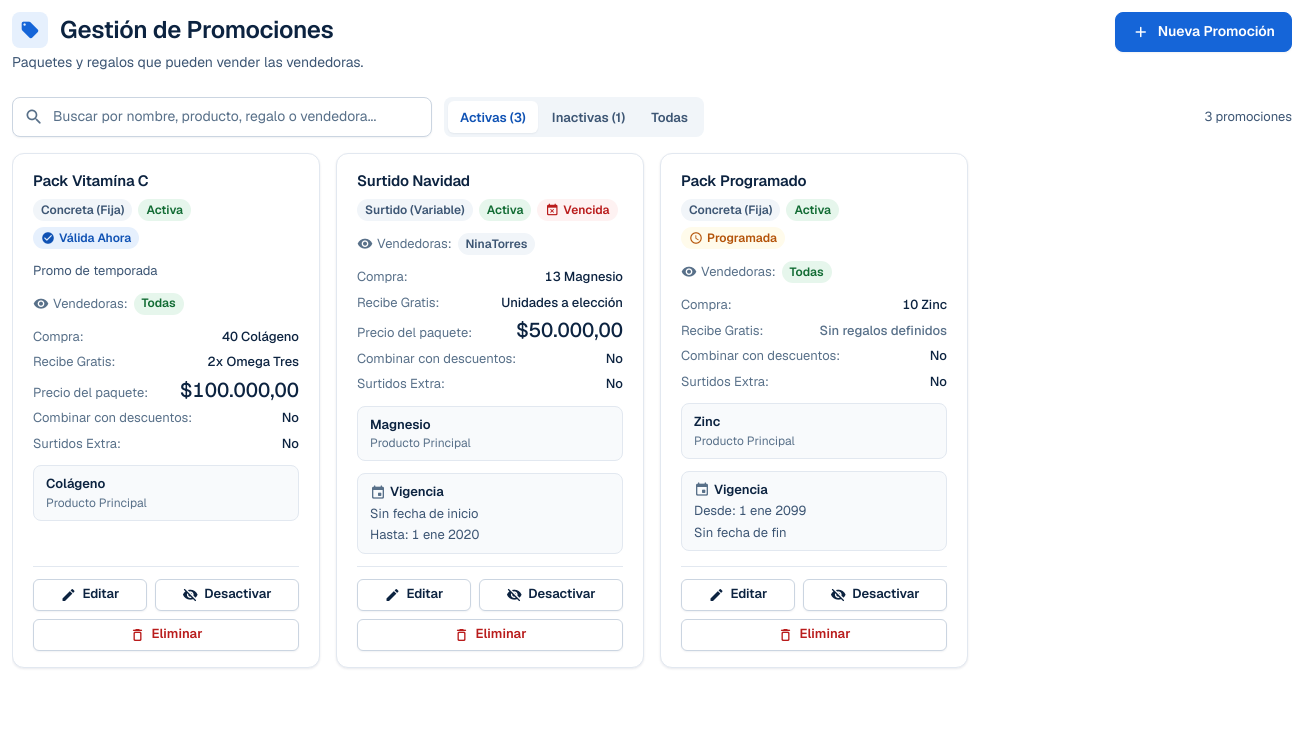
Test: busca sin mayúsculas ni tildes por nombre, producto, regalo y vendedora
Check: the heading "Pack Vitamína C" is shown, box x1=33 y1=171 x2=149 y2=190
In the field with placeholder "Buscar por nombre, producto, regalo o vendedora...": (222, 117) x1=12 y1=97 x2=432 y2=137, type "VITAMINA"
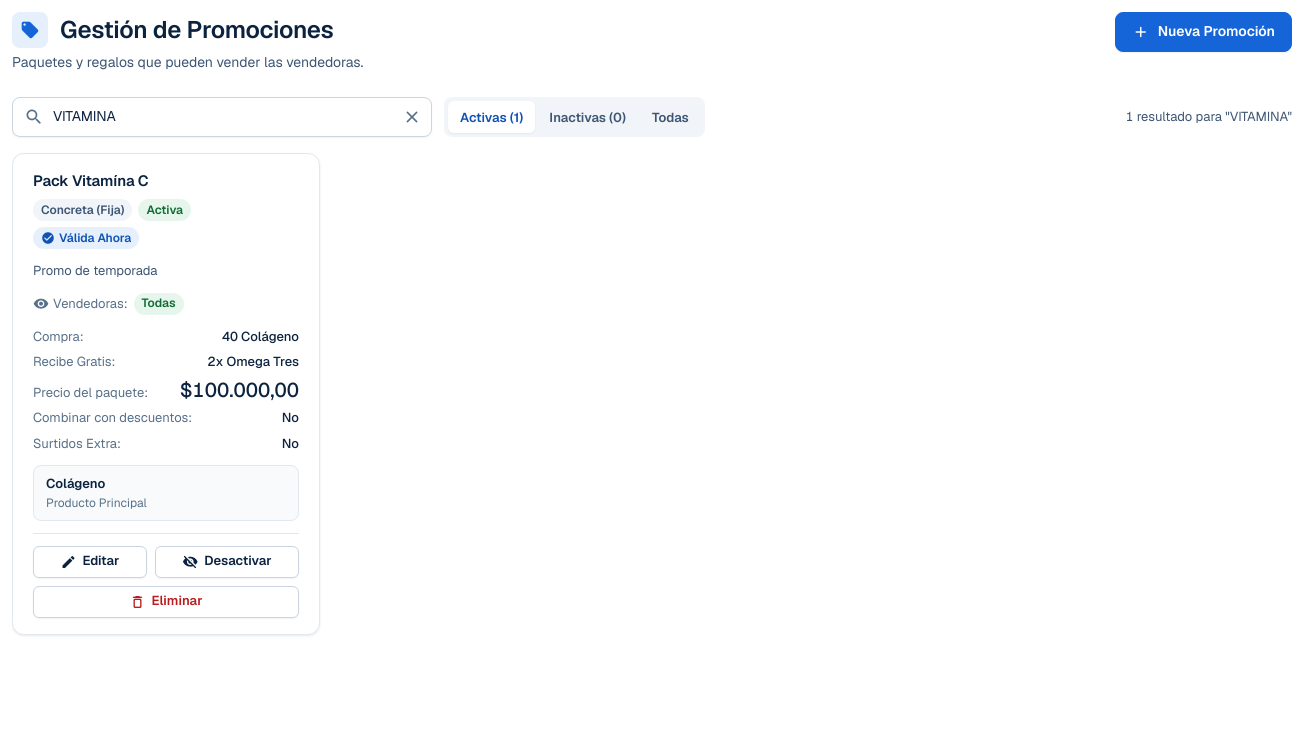
Check: the heading "Surtido Navidad" is gone
Check: the text "1 resultado para \"VITAMINA\"" is shown, box x1=1126 y1=107 x2=1292 y2=127
Check: the tab "Activas (1)" is shown, box x1=448 y1=101 x2=535 y2=133
Replace the text in the field with placeholder "Buscar por nombre, producto, regalo o vendedora..." with "colageno": (222, 117) x1=12 y1=97 x2=432 y2=137
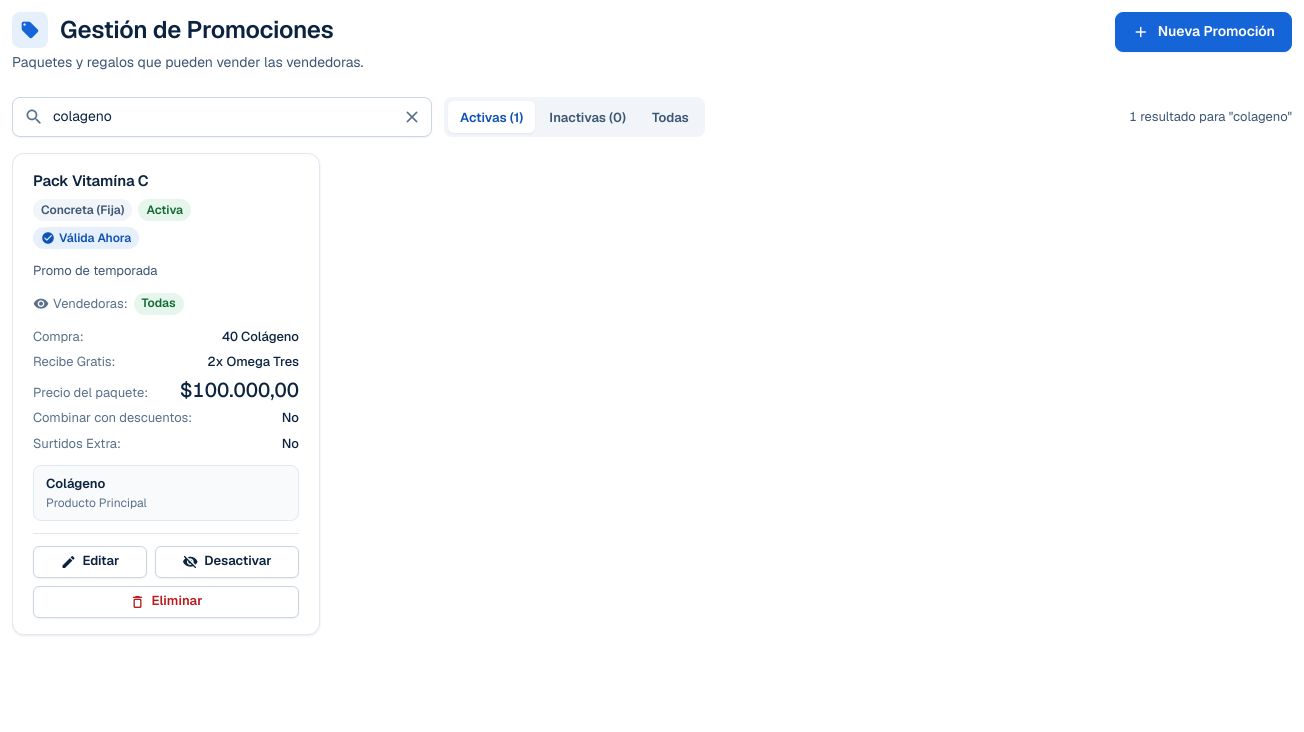
Check: the heading "Pack Vitamína C" is shown, box x1=33 y1=171 x2=149 y2=190
Replace the text in the field with placeholder "Buscar por nombre, producto, regalo o vendedora..." with "omega": (222, 117) x1=12 y1=97 x2=432 y2=137
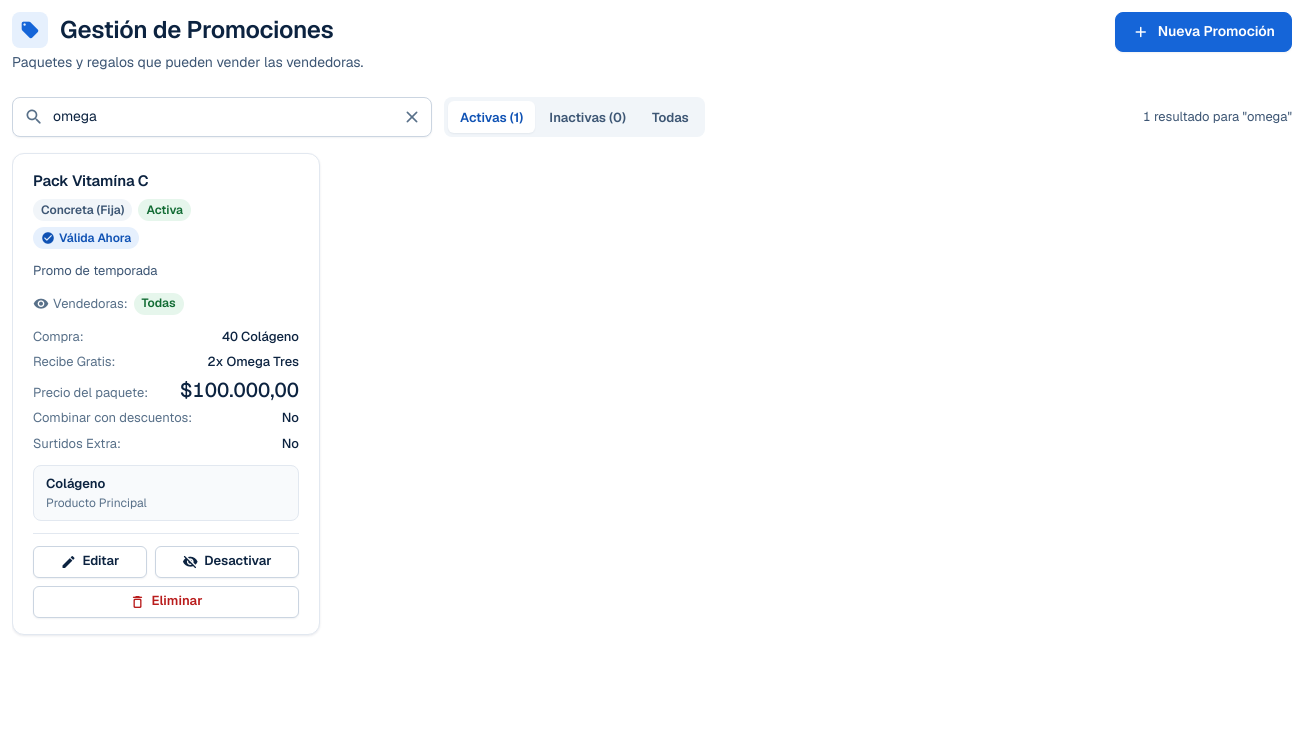
Check: the heading "Pack Vitamína C" is shown, box x1=33 y1=171 x2=149 y2=190
Replace the text in the field with placeholder "Buscar por nombre, producto, regalo o vendedora..." with "nina": (222, 117) x1=12 y1=97 x2=432 y2=137
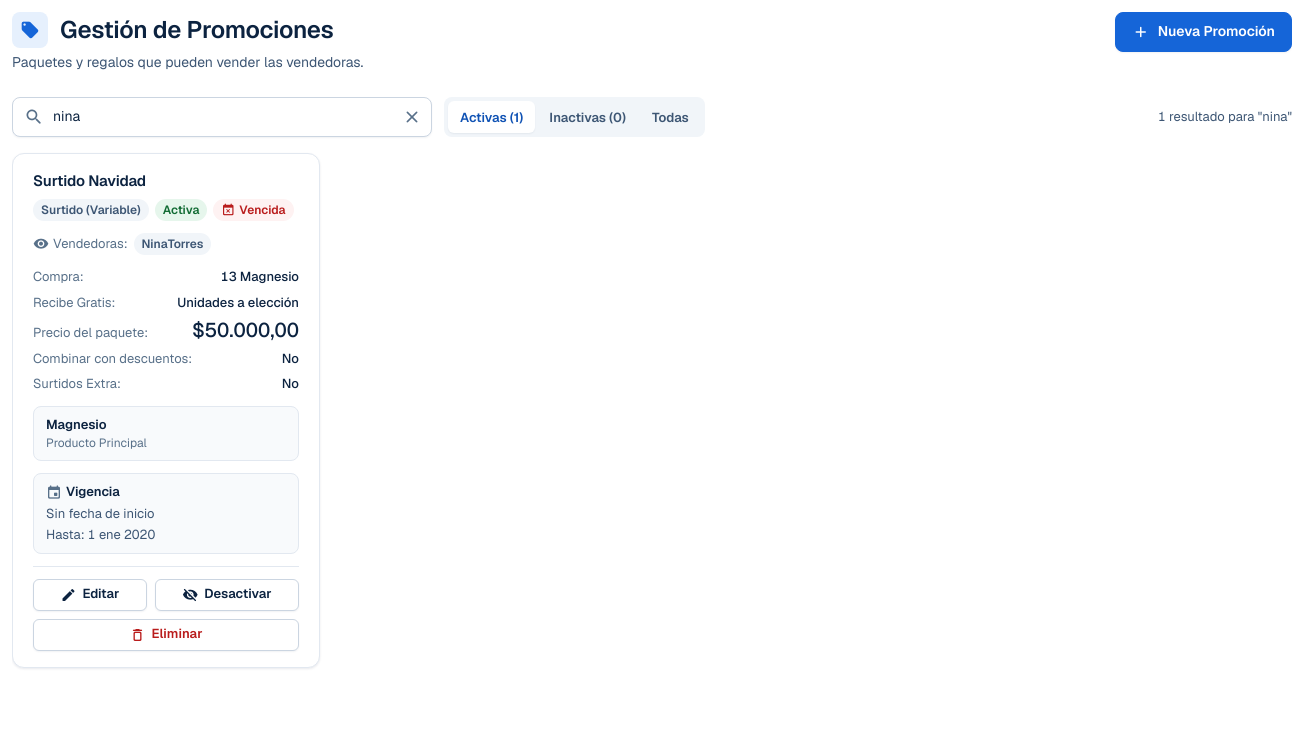
Check: the heading "Surtido Navidad" is shown, box x1=33 y1=171 x2=146 y2=190
Check: the heading "Pack Vitamína C" is gone
Click the button named "Limpiar búsqueda": (412, 117) x1=394 y1=99 x2=430 y2=135
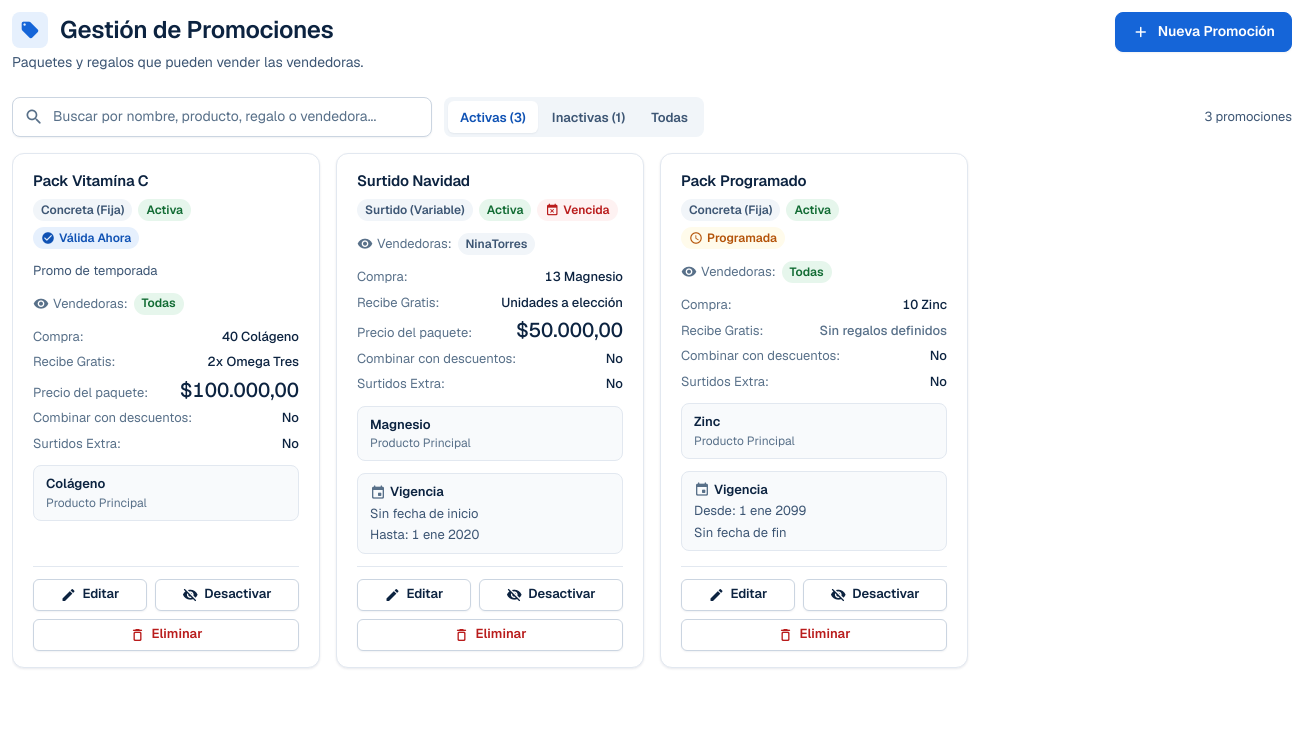
Check: the heading "Surtido Navidad" is shown, box x1=357 y1=171 x2=470 y2=190
Check: the heading "Pack Vitamína C" is shown, box x1=33 y1=171 x2=149 y2=190
